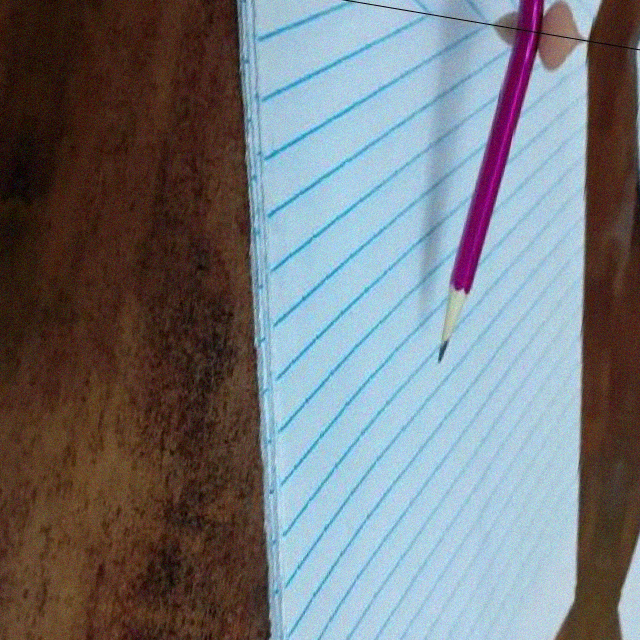pencil: (429, 285, 474, 369)
